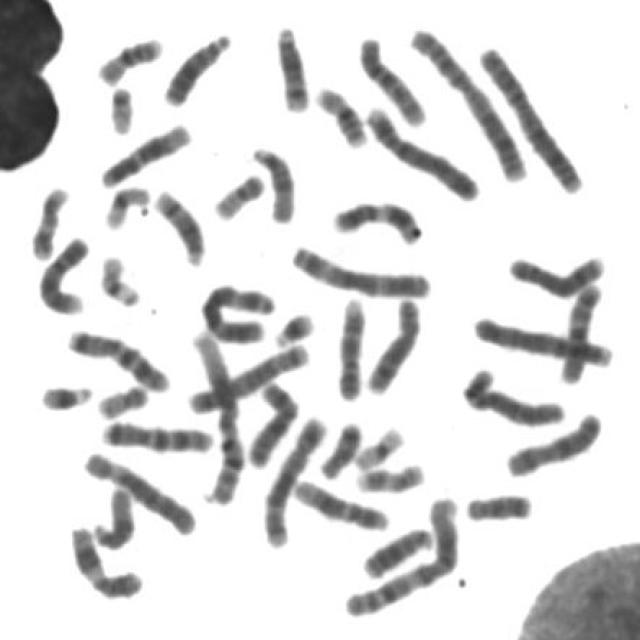A1: (337, 486, 466, 621), (184, 322, 248, 506)
A2: (403, 19, 532, 183), (473, 37, 588, 195)
A3: (284, 235, 435, 300), (194, 275, 280, 344)
B4: (359, 96, 484, 203), (467, 308, 618, 370)
B5: (256, 406, 332, 550), (182, 334, 314, 415)
C10: (352, 27, 431, 128), (552, 272, 608, 387)
C11: (64, 516, 148, 601), (326, 191, 428, 247)
C12: (94, 114, 196, 189), (286, 470, 394, 532)
C6: (76, 442, 200, 536), (455, 359, 571, 429)
C7: (60, 319, 174, 395), (95, 411, 219, 455)
C8: (360, 290, 427, 396), (502, 244, 611, 300)
C9: (32, 228, 94, 316), (332, 290, 371, 402)
D13: (157, 24, 237, 108), (358, 519, 438, 581)
D14: (148, 180, 210, 268), (268, 15, 314, 114)
D15: (246, 138, 302, 225), (86, 479, 138, 551)
E16: (91, 28, 167, 87), (310, 77, 372, 149)
E17: (24, 176, 74, 263), (350, 454, 430, 495)
E18: (314, 412, 366, 480), (460, 483, 538, 525)
F19: (346, 423, 412, 474), (100, 176, 154, 230)
F20: (208, 164, 270, 222), (92, 375, 153, 420)
G21: (33, 374, 97, 414), (268, 301, 320, 349)
G22: (95, 252, 143, 310), (102, 75, 138, 136)
X: (500, 403, 608, 479), (241, 372, 304, 470)
